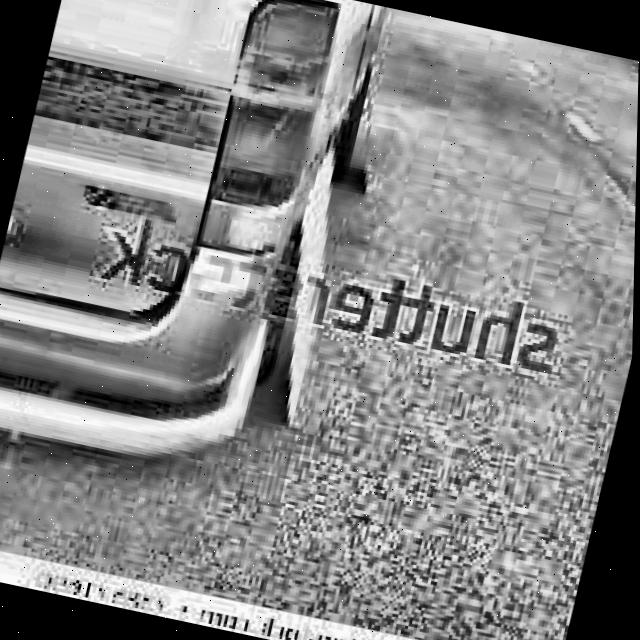tail_lamp: (204, 0, 341, 217)
